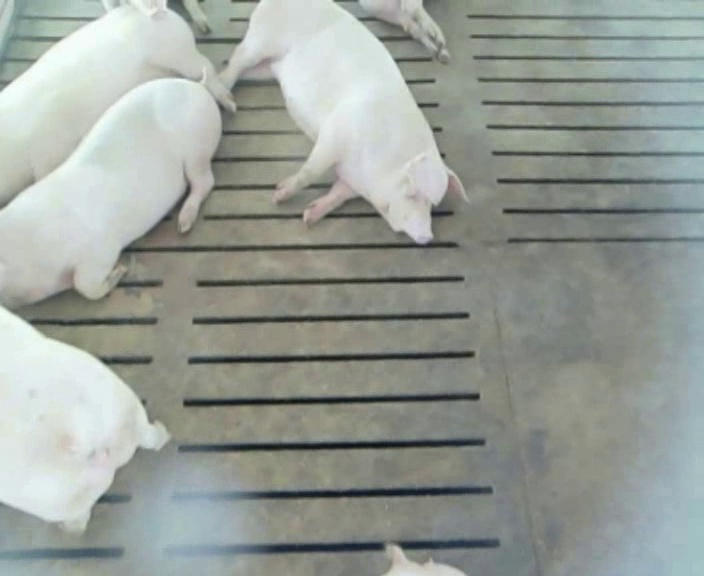pig: (0, 79, 220, 306), (0, 3, 235, 206)
